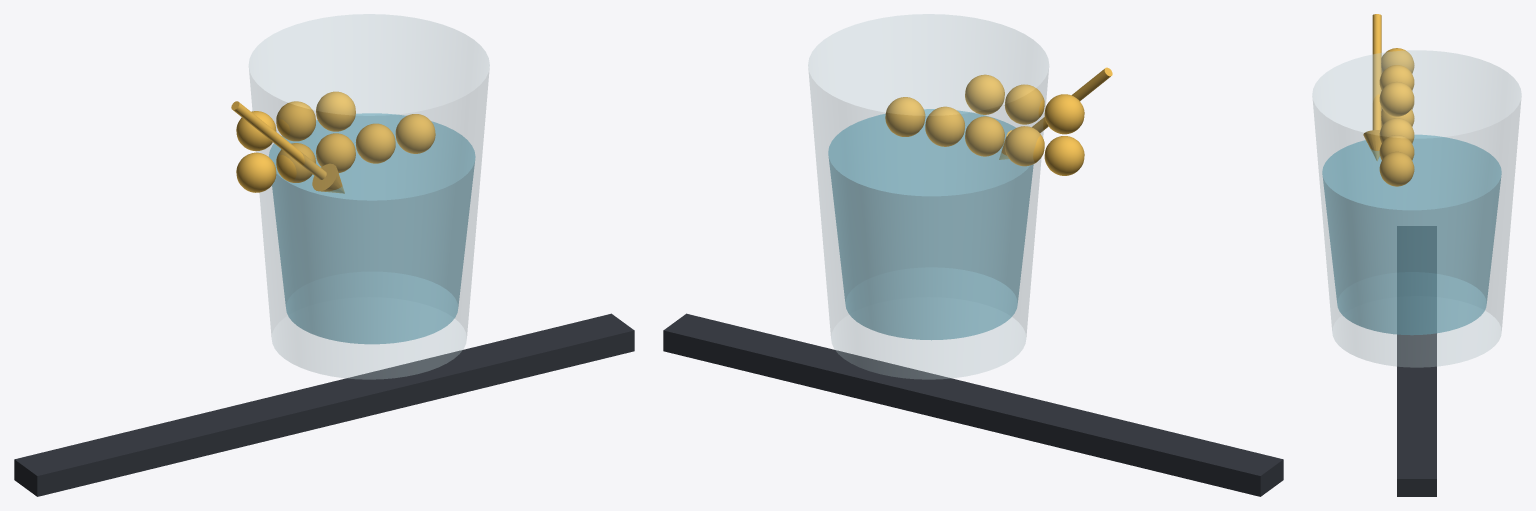
The model's file is chem-solutions-solute.glb.
3 renders of one model, left to right at view 1: azimuth 30°, elevation 25°; view 2: azimuth 150°, elevation 25°; view 3: azimuth 270°, elevation 25°, orthographic. The views are drawn at different scales.
Parts seen in each view (by area): view 1: solvent-water-beaker-glass, solvent-water-beaker-liquid, solutions-lab-bench, solute-crystals-entering-particle-0, solute-crystals-entering-particle-7, solute-crystals-entering-particle-3, solute-crystals-entering-particle-4, solute-crystals-entering-particle-6, solute-drops-into-solvent-shaft, solute-crystals-entering-particle-2, solute-crystals-entering-particle-1, solute-crystals-entering-particle-5; view 2: solvent-water-beaker-glass, solvent-water-beaker-liquid, solutions-lab-bench, solute-crystals-entering-particle-1, solute-crystals-entering-particle-0, solute-crystals-entering-particle-5, solute-crystals-entering-particle-2, solute-crystals-entering-particle-3, solute-crystals-entering-particle-4, solute-crystals-entering-particle-6, solute-crystals-entering-particle-7; view 3: solvent-water-beaker-glass, solvent-water-beaker-liquid, solutions-lab-bench, solute-drops-into-solvent-shaft, solute-crystals-entering-particle-4, solute-crystals-entering-particle-7, solute-crystals-entering-particle-2, solute-crystals-entering-particle-6, solute-crystals-entering-particle-3, solute-crystals-entering-particle-5, solute-drops-into-solvent-head, solute-crystals-entering-particle-1.
Boxes of the visible parts, box(x1,y1,x2,y2) form: solvent-water-beaker-glass: box(249, 14, 489, 379); solvent-water-beaker-liquid: box(269, 113, 475, 344); solutions-lab-bench: box(14, 313, 634, 496); solute-crystals-entering-particle-0: box(236, 152, 276, 192); solute-crystals-entering-particle-7: box(316, 91, 355, 131); solute-crystals-entering-particle-3: box(355, 123, 395, 163); solute-crystals-entering-particle-4: box(395, 114, 435, 153); solute-crystals-entering-particle-6: box(276, 101, 315, 141); solute-drops-into-solvent-shaft: box(231, 101, 326, 179); solute-crystals-entering-particle-2: box(316, 133, 355, 172); solute-crystals-entering-particle-1: box(276, 143, 315, 182); solute-crystals-entering-particle-5: box(236, 111, 276, 151); solvent-water-beaker-glass: box(808, 14, 1048, 379); solvent-water-beaker-liquid: box(828, 109, 1033, 340); solutions-lab-bench: box(663, 313, 1283, 496); solute-crystals-entering-particle-1: box(1005, 126, 1044, 166); solute-crystals-entering-particle-0: box(1044, 136, 1084, 175); solute-crystals-entering-particle-5: box(1044, 94, 1084, 134); solute-crystals-entering-particle-2: box(965, 116, 1004, 156); solute-crystals-entering-particle-3: box(925, 106, 964, 146); solute-crystals-entering-particle-4: box(885, 97, 925, 136); solute-crystals-entering-particle-6: box(1004, 84, 1044, 124); solute-crystals-entering-particle-7: box(965, 74, 1004, 114); solvent-water-beaker-glass: box(1312, 50, 1521, 367); solvent-water-beaker-liquid: box(1322, 134, 1501, 335); solutions-lab-bench: box(1397, 226, 1436, 496); solute-drops-into-solvent-shaft: box(1372, 14, 1381, 130); solute-crystals-entering-particle-4: box(1379, 151, 1414, 186); solute-crystals-entering-particle-7: box(1379, 82, 1414, 116); solute-crystals-entering-particle-2: box(1379, 118, 1414, 143); solute-crystals-entering-particle-6: box(1379, 65, 1414, 90); solute-crystals-entering-particle-3: box(1379, 135, 1414, 160); solute-crystals-entering-particle-5: box(1381, 48, 1414, 73); solute-drops-into-solvent-head: box(1363, 130, 1381, 160); solute-crystals-entering-particle-1: box(1381, 109, 1414, 126).
Size of what is drawn, in the model's own units: 2.4 by 1.37 by 0.84.
